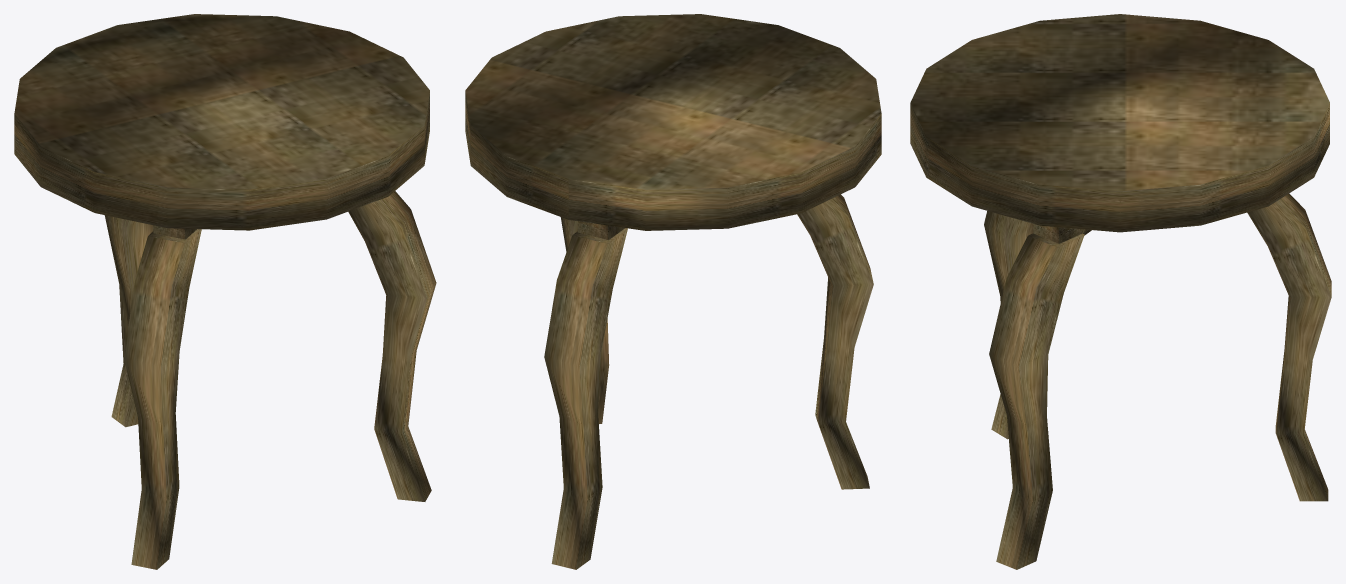
File: tabletri.glb
3 views of the same model, side by side, from view 1: azimuth 30°, elevation 25°; view 2: azimuth 150°, elevation 25°; view 3: azimuth 270°, elevation 25° (orthographic).
Parts seen in each view (by area): view 1: Cylinder; view 2: Cylinder; view 3: Cylinder.
Boxes of the visible parts, x1=… form: Cylinder: x1=14, y1=14, x2=436, y2=569; Cylinder: x1=465, y1=14, x2=881, y2=569; Cylinder: x1=910, y1=14, x2=1331, y2=569.
Size of the model in its own units: 2 by 2.05 by 2.01.
Materials: 1 (1 with a texture image).
